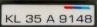character: (33, 13, 42, 24), (4, 13, 13, 23), (58, 13, 67, 23), (75, 13, 84, 23), (13, 14, 22, 23), (45, 14, 54, 23), (25, 13, 33, 23), (84, 14, 92, 23), (68, 13, 74, 24)
